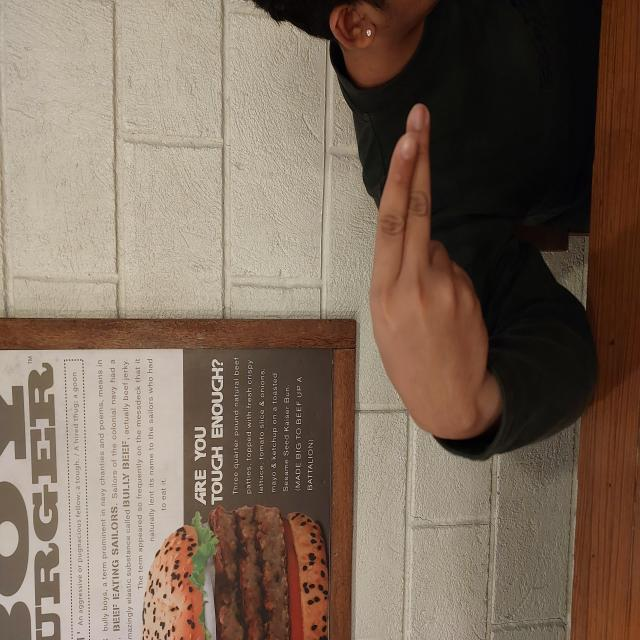H: (197, 367, 539, 491)
